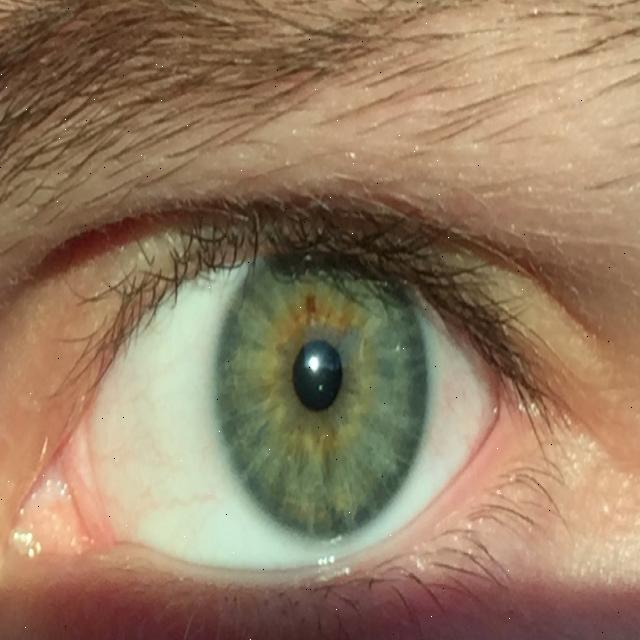Normal: (212, 223, 422, 548)
